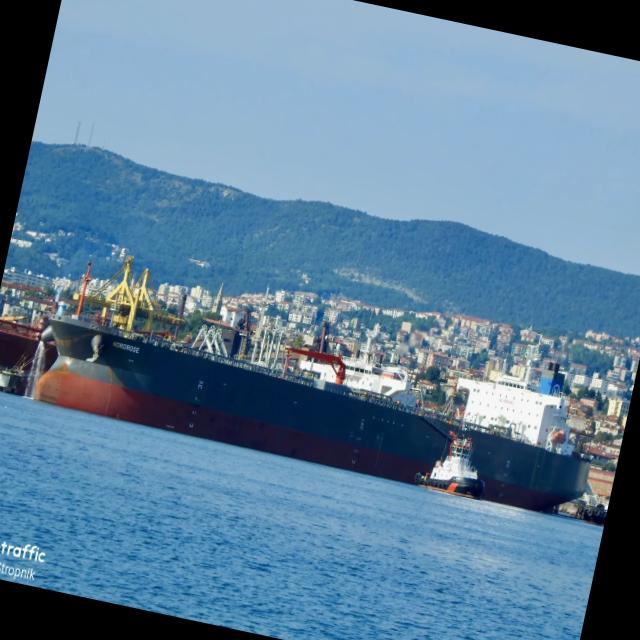Tanker: (32, 312, 589, 510), (78, 275, 89, 310)
Tug: (427, 436, 484, 498)
